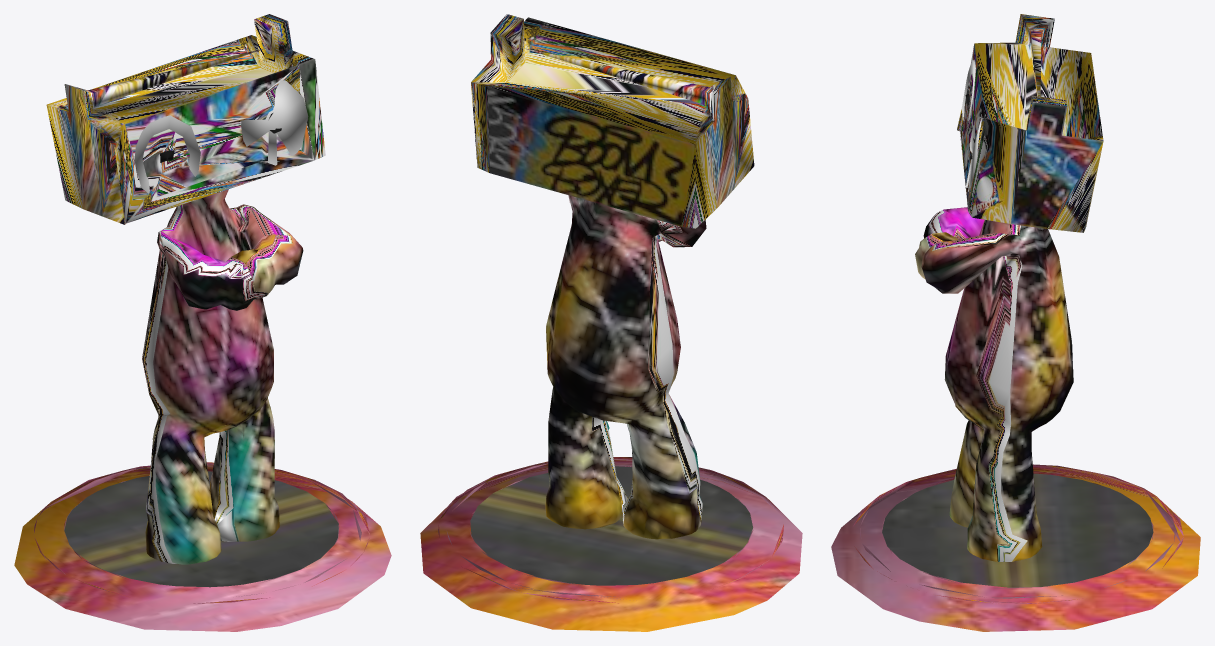
The picture shows the model from 3 angles, left to right: view 1: azimuth 30°, elevation 25°; view 2: azimuth 150°, elevation 25°; view 3: azimuth 270°, elevation 25°; orthographic projection. The views are drawn at different scales.
Bounding box in the file's own units: 1.43 × 2.12 × 1.43.
Materials: 6 (4 with a texture image).
